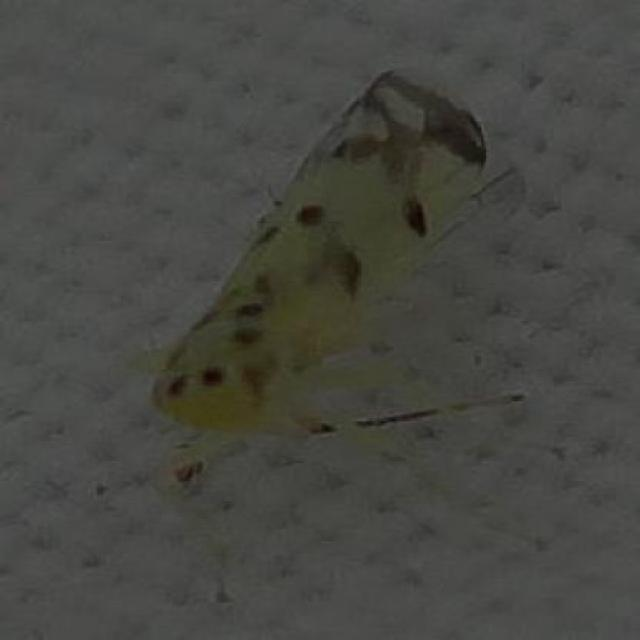green-leafhopper: (138, 62, 512, 484)
